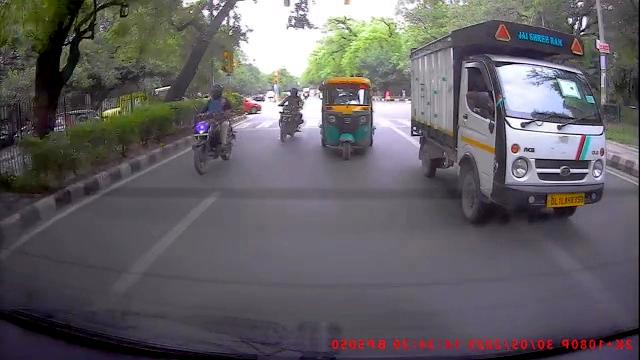motorcycle_with_helmet: (189, 82, 237, 176), (277, 86, 304, 143)
